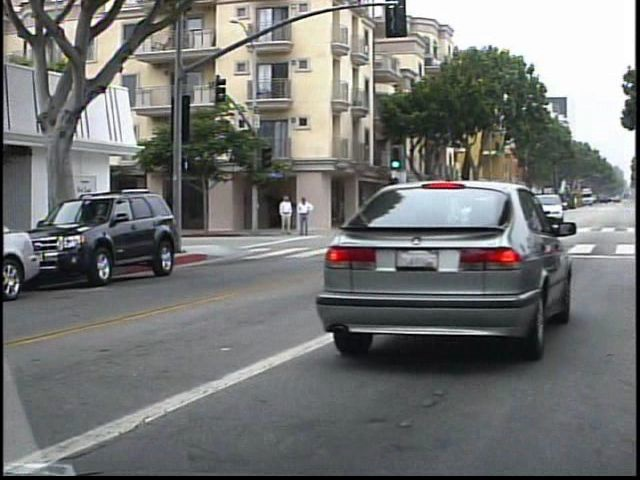person: (291, 194, 310, 240), (275, 192, 292, 237)
